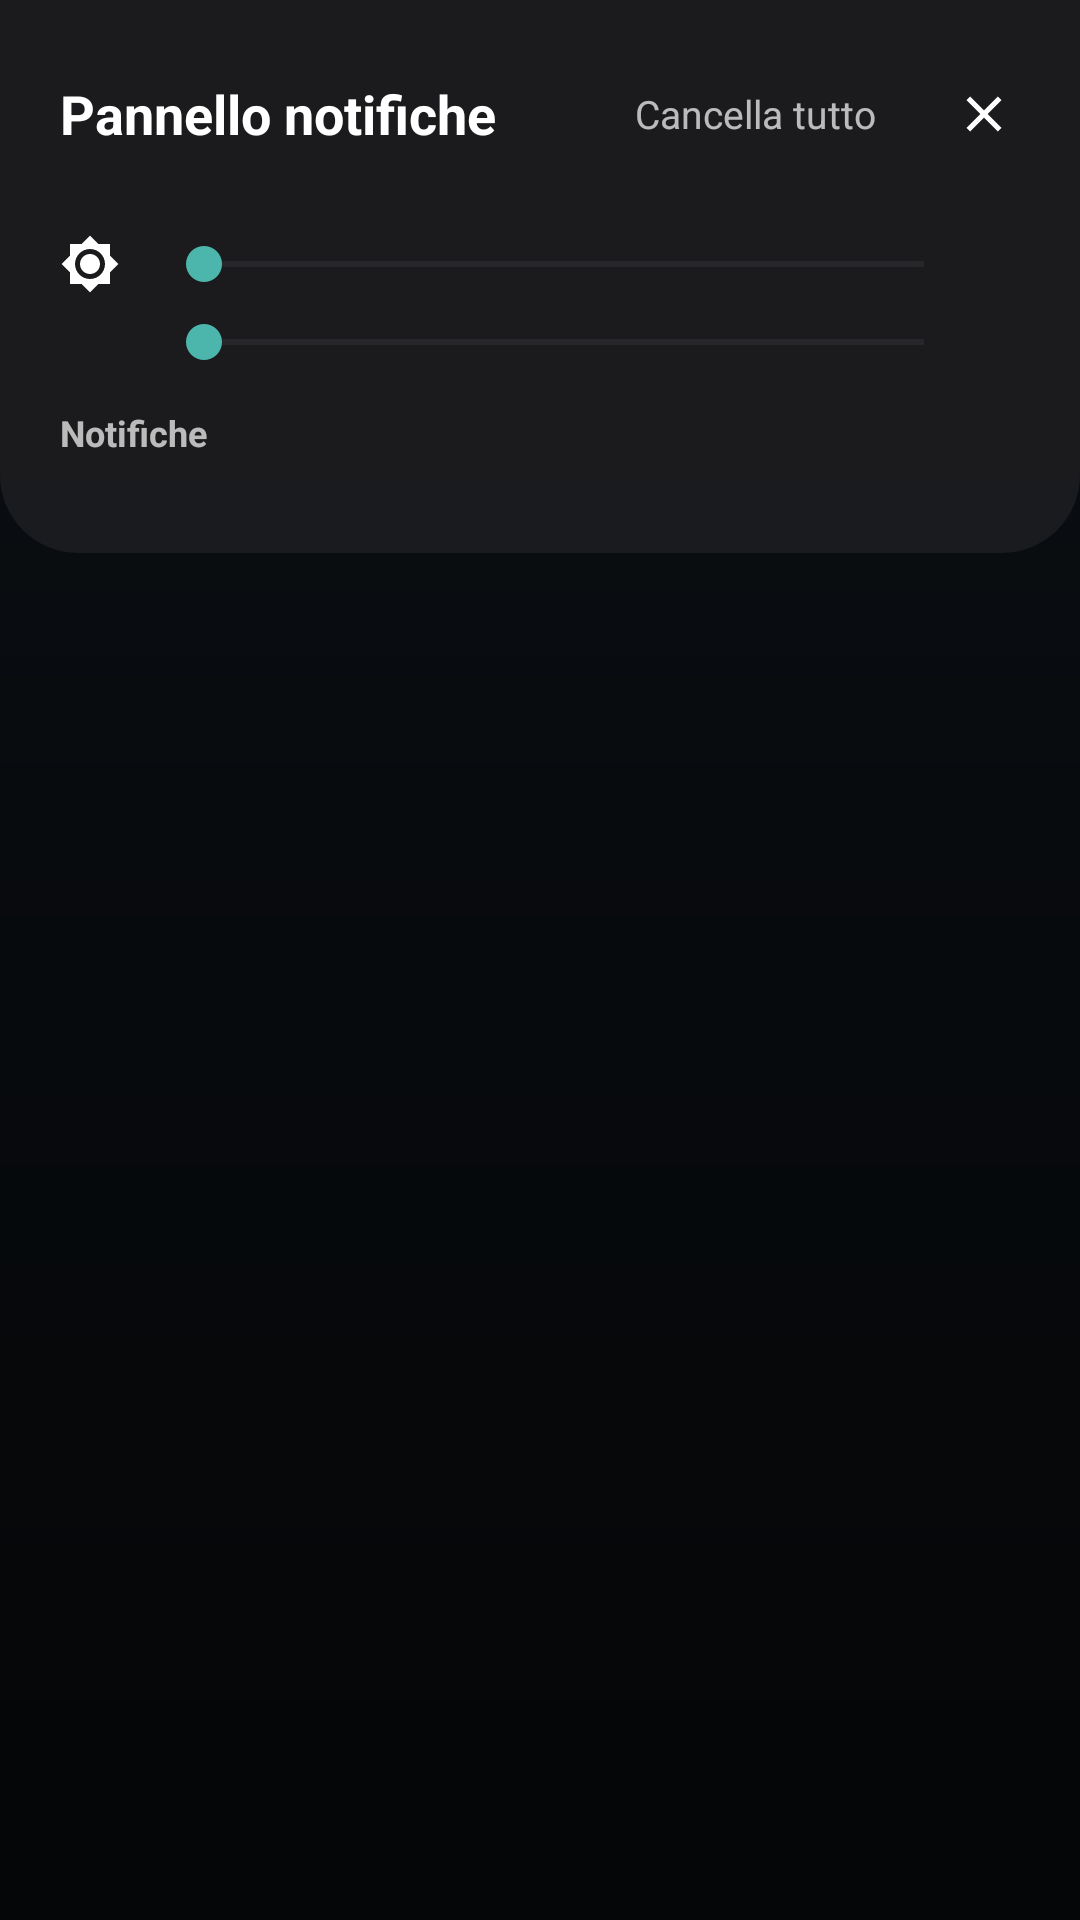

Point at icon controls on the screen. Image size 1080px×1920px, points as [x,y].
brightness: [90,264]
Chiudi: [984,114]
